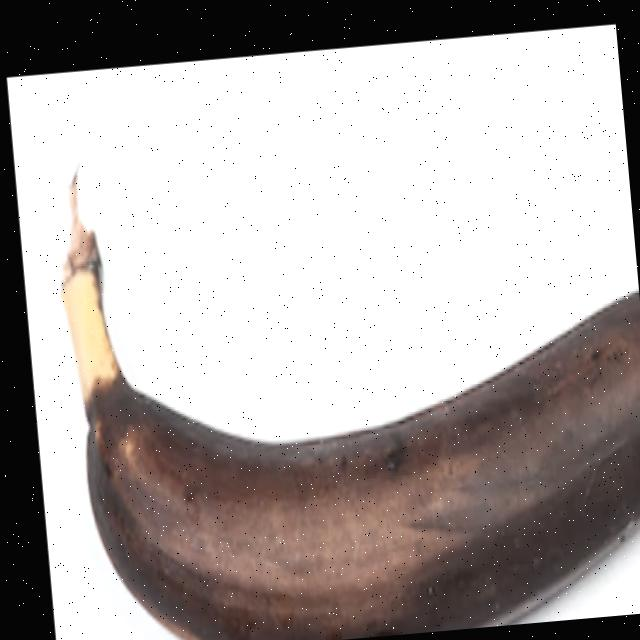Rotten: (29, 121, 640, 640)
